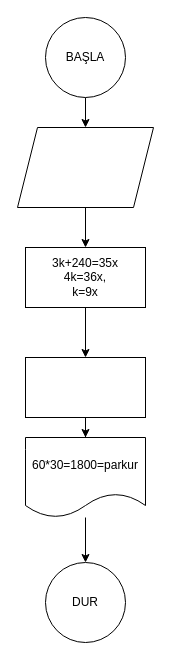
Some shapes in this 171 by 660 pixel diagram are drawn without their labels. Each missing label, with the centre of its shape:
3*9+240=35x 27x+240=35x 240=8x x=30: point (85, 387)
60x=uzunlukta parkur: point (85, 167)
